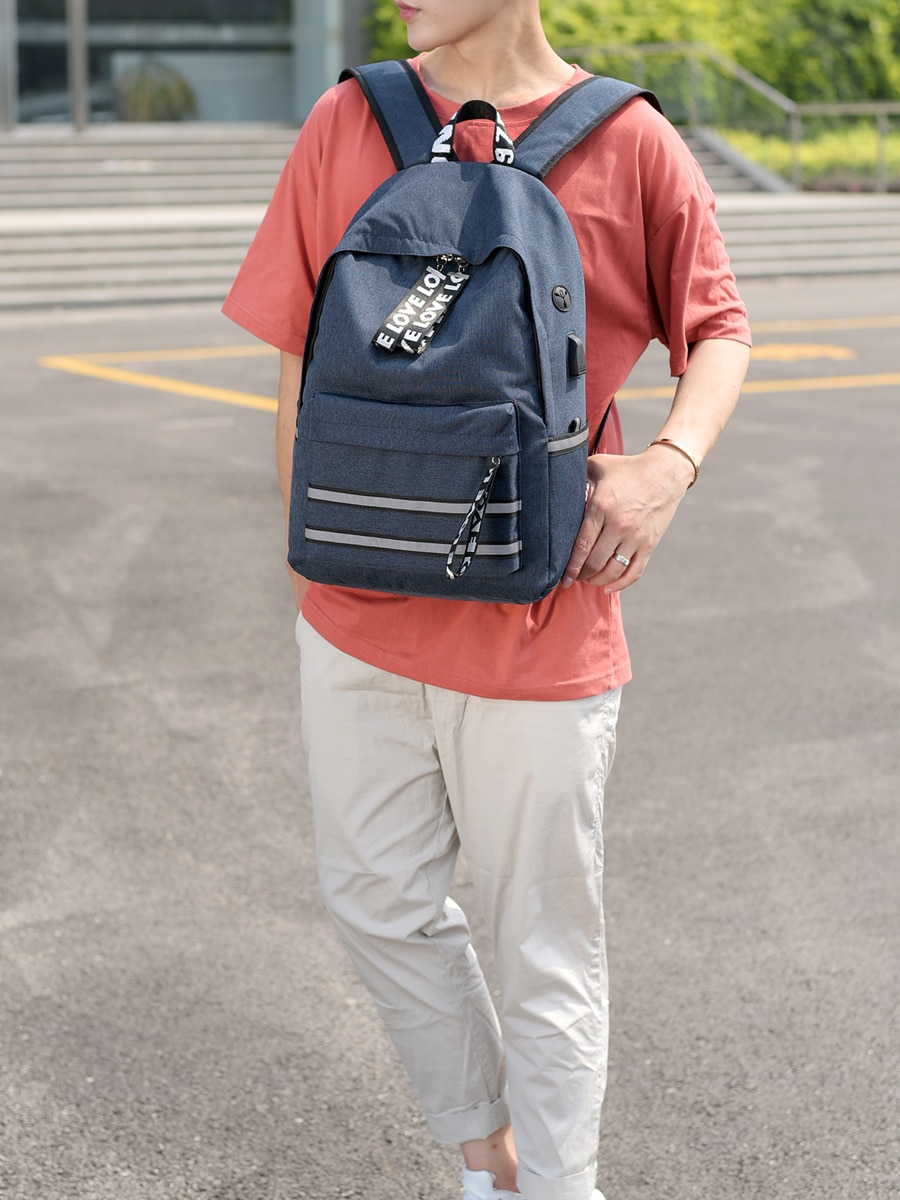Accessories|Bracelets: (650, 438, 700, 486)
Accessories|Rings: (614, 553, 631, 567)
Bottoms|Pants: (292, 606, 625, 1200)
Men's Backpacks: (286, 87, 619, 597)
Tops|T-shirts & Tanks: (222, 60, 752, 388)
